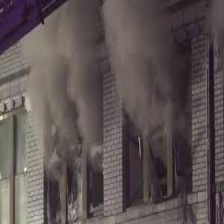smoke: (32, 31, 186, 154)
